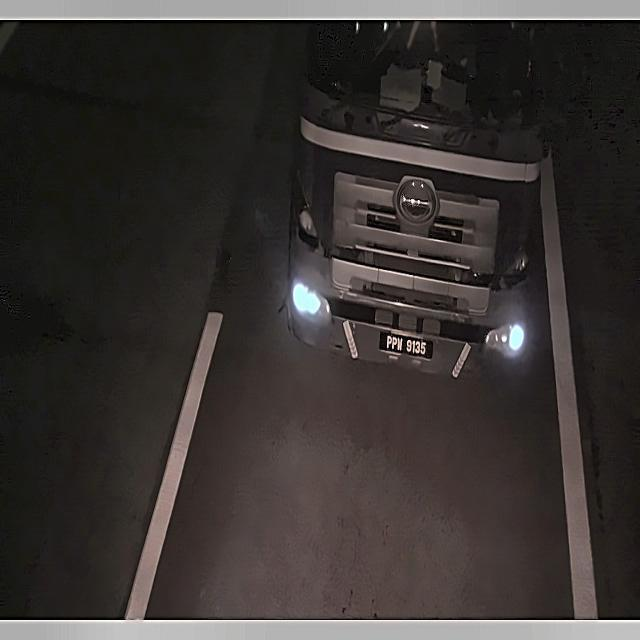car: (376, 329, 437, 364)
